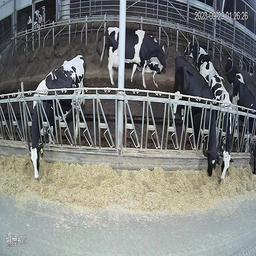cow: (28, 54, 87, 183), (176, 52, 220, 179), (111, 24, 175, 90), (210, 75, 235, 181), (234, 73, 254, 172), (185, 38, 212, 67), (27, 4, 48, 33), (224, 50, 242, 83)
